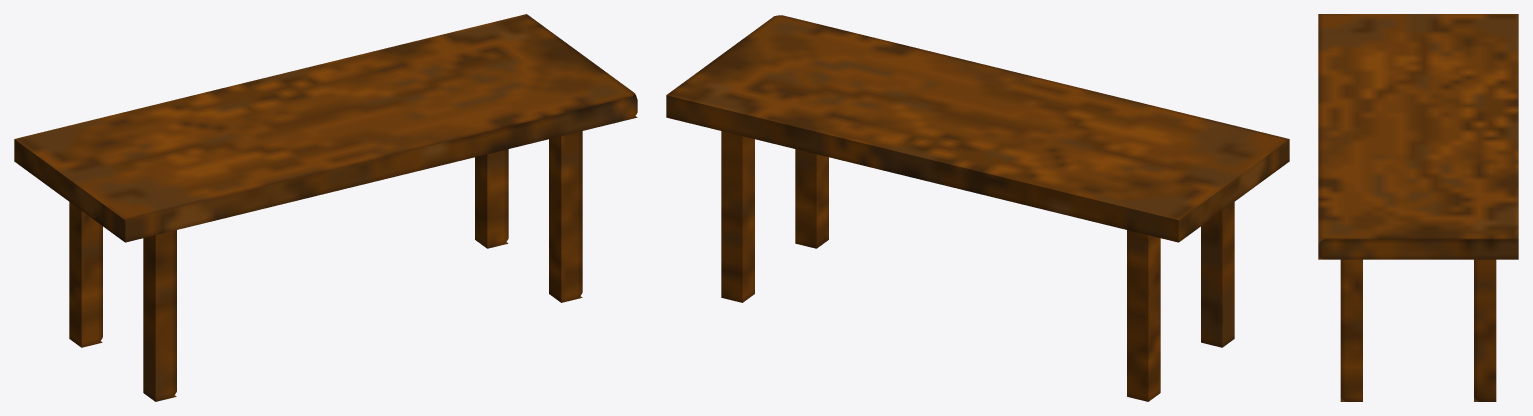
File: Table (3).obj
3 views of the same model, side by side, from view 1: azimuth 30°, elevation 25°; view 2: azimuth 150°, elevation 25°; view 3: azimuth 270°, elevation 25° (orthographic). The views are drawn at different scales.
Visible parts, largest first — view 1: top, leg 2, leg 3, leg 4, leg 1; view 2: top, leg 1, leg 4, leg 3, leg 2; view 3: top, leg 1, leg 2.
Boxes of the visible parts, bbox=[...] form: top: bbox=[14, 14, 637, 242]; leg 2: bbox=[549, 131, 582, 302]; leg 3: bbox=[143, 230, 176, 401]; leg 4: bbox=[69, 202, 102, 347]; leg 1: bbox=[475, 149, 508, 248]; top: bbox=[666, 15, 1289, 242]; leg 1: bbox=[721, 131, 754, 302]; leg 4: bbox=[1127, 230, 1160, 401]; leg 3: bbox=[1201, 202, 1234, 347]; leg 2: bbox=[795, 149, 828, 248]; top: bbox=[1318, 14, 1518, 259]; leg 1: bbox=[1474, 259, 1496, 401]; leg 2: bbox=[1340, 259, 1362, 401].
Size of the model in its own units: 1.5 by 0.5625 by 0.5625.
1 material, 1 textured.
